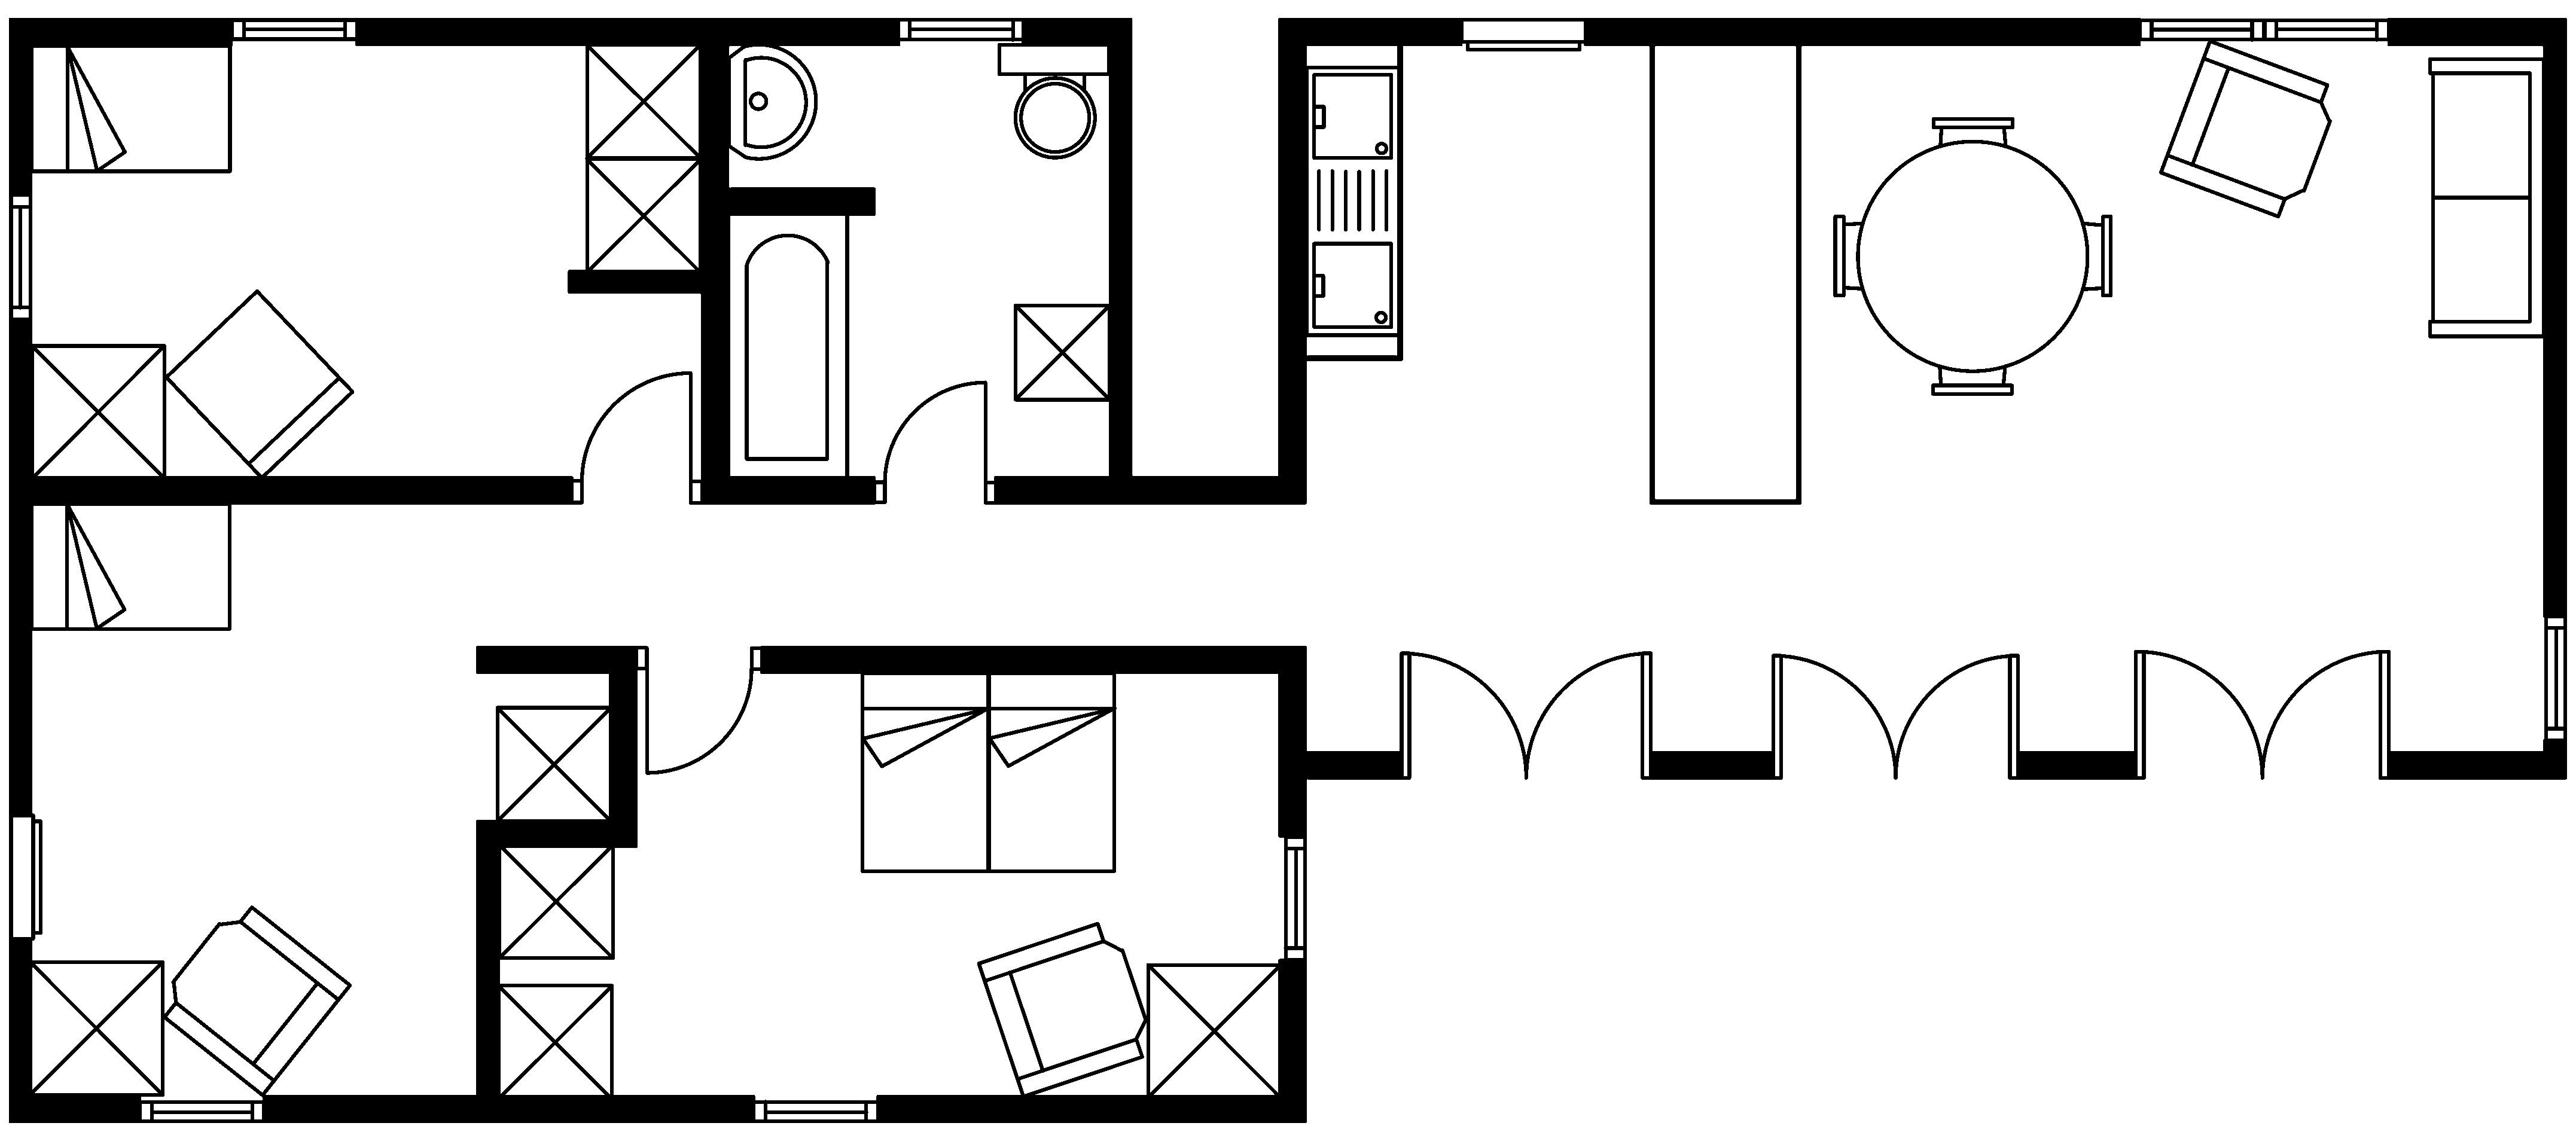armchair: (161, 905, 352, 1097), (2159, 38, 2331, 219), (976, 922, 1148, 1099)
bed: (30, 43, 232, 174), (859, 670, 991, 872), (986, 670, 1117, 872), (28, 501, 232, 631)
coffee_table: (26, 959, 164, 1097), (1145, 963, 1283, 1099), (30, 343, 166, 480), (494, 982, 614, 1101), (583, 41, 702, 161), (494, 705, 613, 823), (496, 841, 614, 959), (585, 156, 702, 274), (1012, 302, 1112, 401)
large_sink: (997, 41, 1111, 158)
large_sofa: (2426, 56, 2545, 338)
round_table: (1832, 117, 2113, 396)
small_sink: (726, 43, 816, 159)
small_sofa: (163, 288, 355, 480)
tub: (726, 210, 849, 483)
twin_sink: (1304, 64, 1401, 337)
